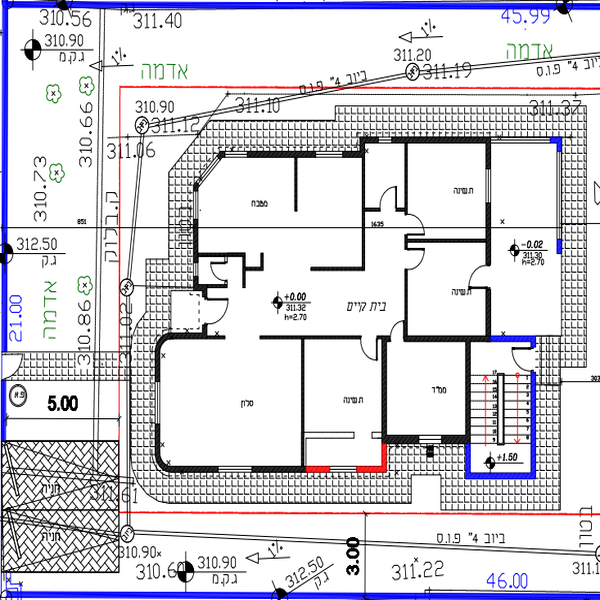door: (355, 330, 386, 367), (467, 262, 498, 293), (401, 210, 433, 237), (510, 344, 539, 373), (384, 317, 410, 349), (205, 297, 230, 327), (378, 181, 399, 214), (405, 243, 426, 273), (207, 257, 230, 279)
room: (154, 331, 307, 477), (203, 146, 372, 274), (481, 132, 564, 338), (297, 331, 388, 474), (377, 334, 477, 447), (465, 330, 538, 480), (402, 131, 501, 238), (402, 237, 494, 344)
wall: (400, 327, 484, 347), (527, 367, 543, 472), (392, 131, 490, 148), (299, 339, 312, 467), (458, 338, 473, 439), (406, 234, 495, 248), (361, 156, 371, 272), (467, 470, 538, 486), (157, 461, 220, 479), (379, 337, 389, 445), (160, 328, 225, 344), (292, 157, 309, 214), (401, 132, 413, 210), (480, 202, 494, 264), (261, 334, 357, 343), (305, 262, 366, 276), (401, 270, 413, 341), (481, 286, 495, 346), (247, 147, 315, 159), (250, 460, 297, 477), (388, 431, 419, 452), (199, 249, 247, 262), (493, 334, 537, 344), (463, 442, 472, 483), (193, 219, 203, 251), (241, 255, 250, 287), (155, 344, 161, 380), (155, 427, 159, 460)
window: (149, 378, 166, 422), (493, 134, 549, 146), (220, 465, 254, 478), (316, 145, 343, 161), (223, 143, 247, 161), (484, 166, 495, 204), (423, 434, 440, 449), (330, 464, 354, 474)
